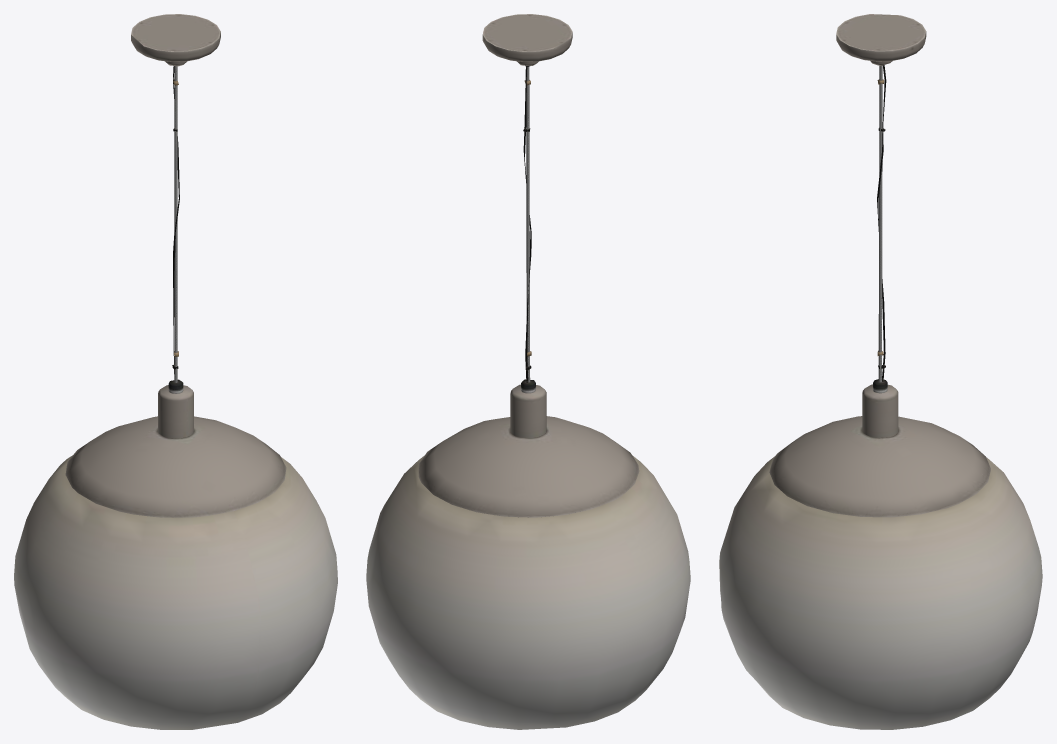
File: modern_ceiling_lamp_01.gltf
The picture shows the model from 3 angles, left to right: view 1: azimuth 30°, elevation 25°; view 2: azimuth 150°, elevation 25°; view 3: azimuth 270°, elevation 25°; orthographic projection.
Visible parts, largest first — view 1: modern_ceiling_lamp_01; view 2: modern_ceiling_lamp_01; view 3: modern_ceiling_lamp_01.
Part boxes in pixels (left/top/right/bottom): modern_ceiling_lamp_01: left=14, top=14, right=337, bottom=729; modern_ceiling_lamp_01: left=366, top=14, right=690, bottom=729; modern_ceiling_lamp_01: left=719, top=14, right=1042, bottom=729.
Size of the model in its own units: 0.4316 by 0.9512 by 0.4298.
3 materials, 3 textured.
